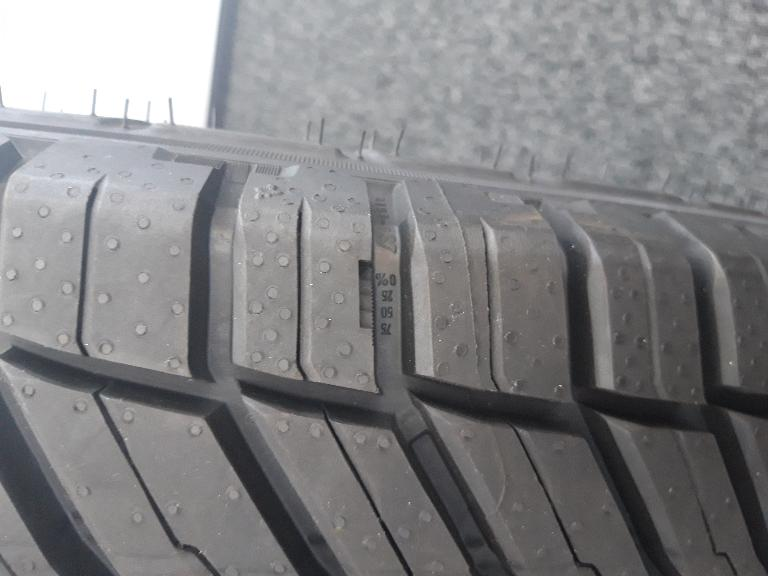temoin:100: (357, 258, 376, 347)
